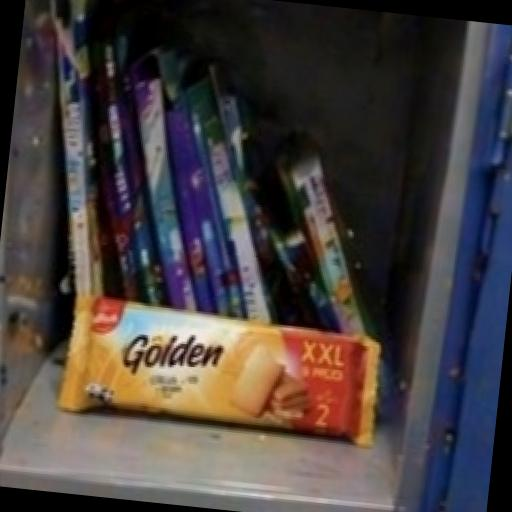golden: (15, 241, 470, 512)
